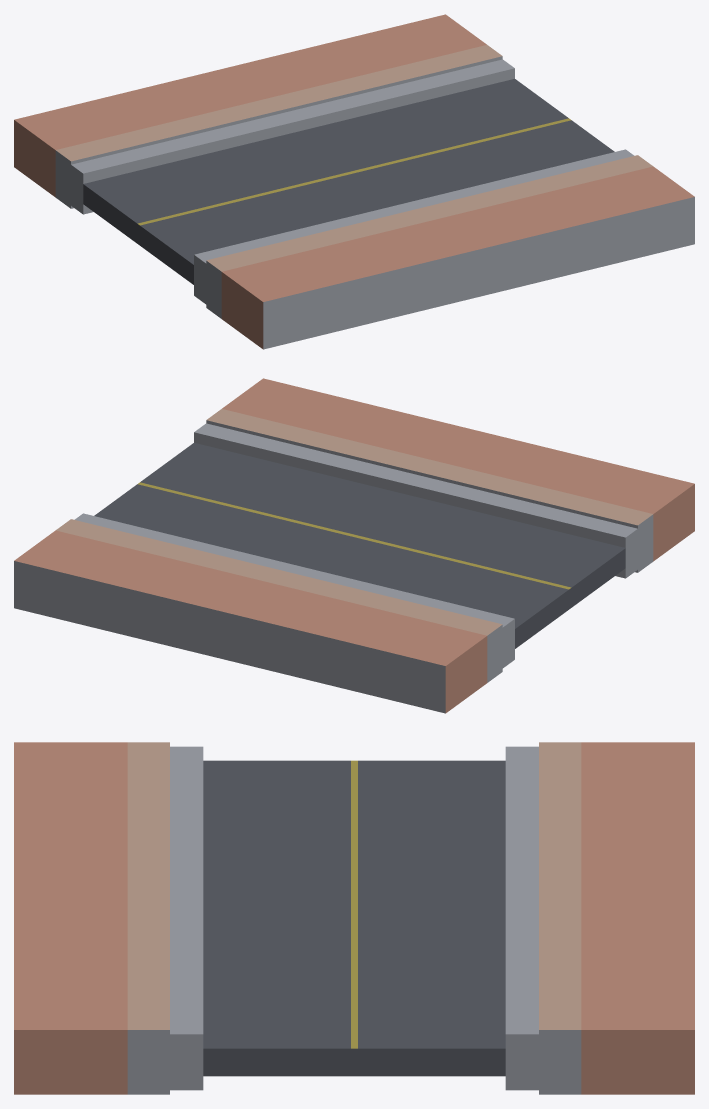
The model's file is RoadOrange.fbx.
The picture shows the model from 3 angles, top to bottom: view 1: azimuth 30°, elevation 25°; view 2: azimuth 150°, elevation 25°; view 3: azimuth 270°, elevation 25°; orthographic projection. The views are drawn at different scales.
Visible parts, largest first — view 1: Road 8; view 2: Road 8; view 3: Road 8.
Boxes of the visible parts, x1,y1,x2,y2 form: Road 8: (14,14,694,349); Road 8: (14,378,694,713); Road 8: (14,742,694,1094).
Size of the model in its own units: 12.36 by 12.36 by 1.3.
Materials: 1 (1 with a texture image).
